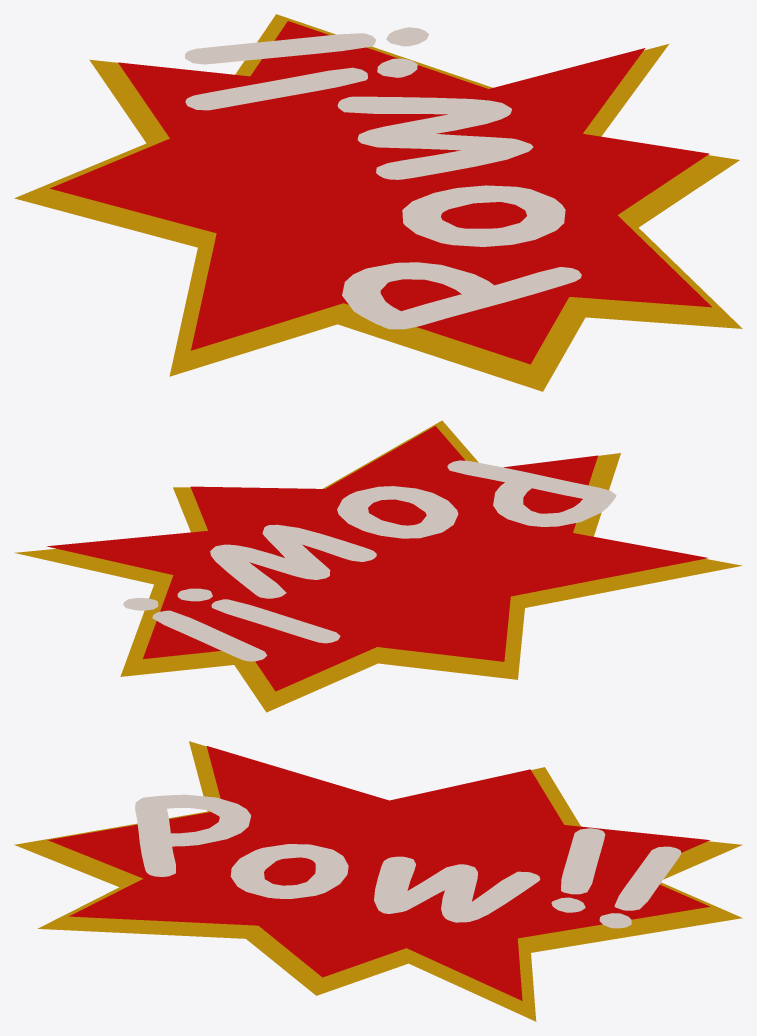
The model's file is weeblpow.fbx.
The picture shows the model from 3 angles, top to bottom: view 1: azimuth 30°, elevation 25°; view 2: azimuth 150°, elevation 25°; view 3: azimuth 270°, elevation 25°; orthographic projection. The views are drawn at different scales.
Visible parts, largest first — view 1: pCylinder3; view 2: pCylinder3; view 3: pCylinder3.
Part boxes in pixels (bbox=[...]): pCylinder3: bbox=[14, 14, 742, 391]; pCylinder3: bbox=[14, 420, 742, 712]; pCylinder3: bbox=[14, 741, 742, 1021].
Size of the model in its own units: 124 by 3.68 by 136.
